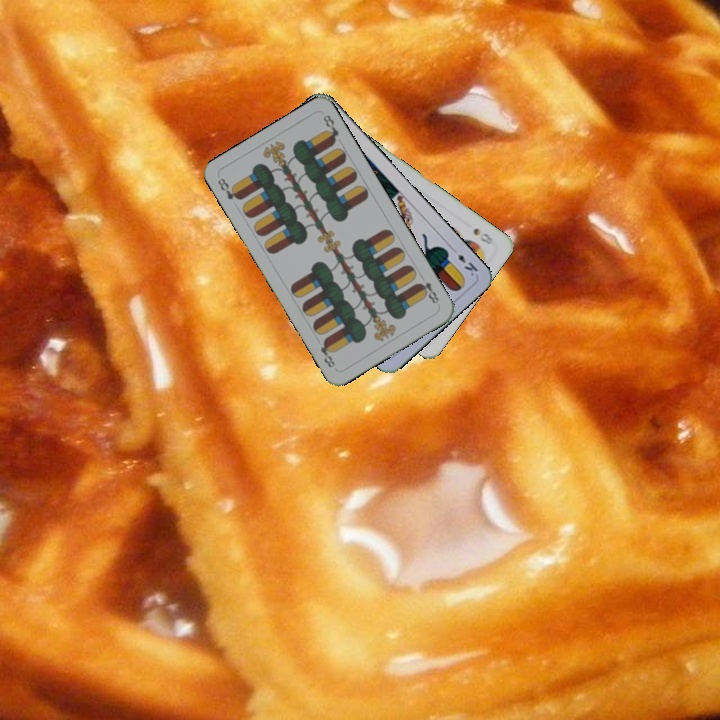E8: (214, 174, 243, 203), (414, 278, 442, 306)
EK: (447, 243, 481, 279)
S8: (469, 224, 496, 247)
